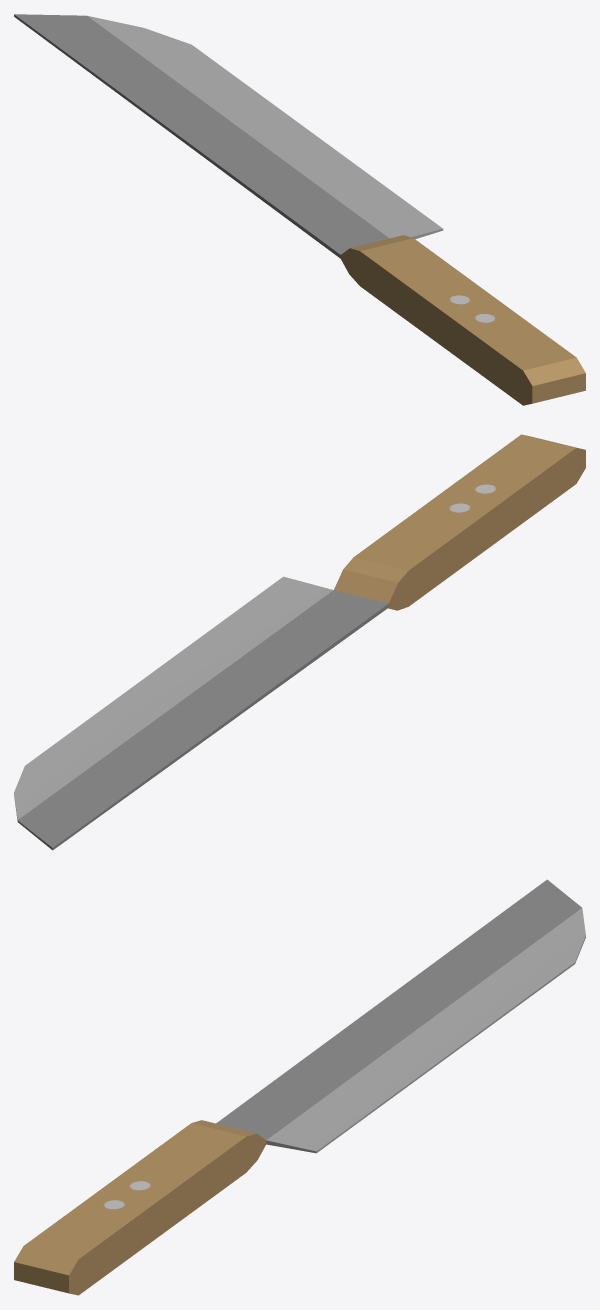
Rendered from Knife.FBX.
3 views of the same model, one above another, from view 1: azimuth 30°, elevation 25°; view 2: azimuth 150°, elevation 25°; view 3: azimuth 330°, elevation 25° (orthographic). The views are drawn at different scales.
Visible parts, largest first — view 1: BigKnife; view 2: BigKnife; view 3: BigKnife.
Part boxes in pixels (x1=…): BigKnife: x1=14, y1=14, x2=585, y2=405; BigKnife: x1=14, y1=434, x2=585, y2=850; BigKnife: x1=14, y1=879, x2=585, y2=1295.
Size of the model in its own units: 3.96 by 1.3 by 34.71.
